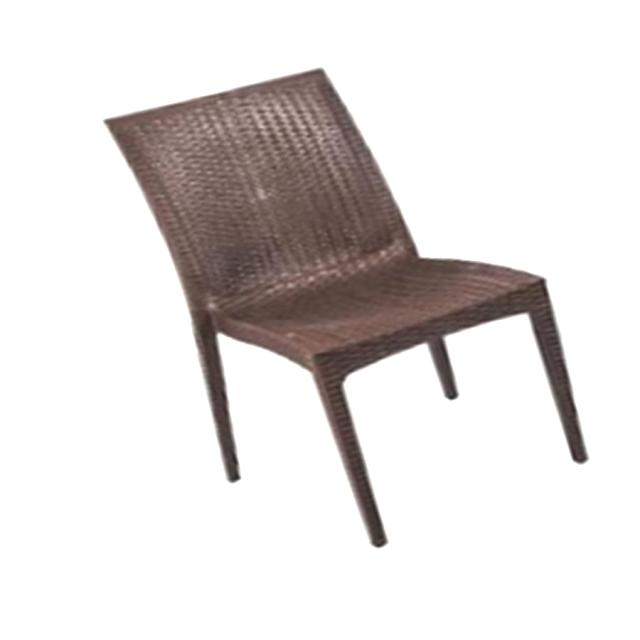Chair: (100, 65, 601, 550)
